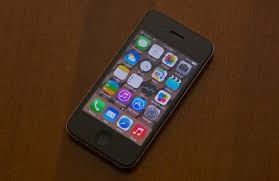iphone: (61, 5, 222, 174)
iphone4: (61, 6, 222, 175)
